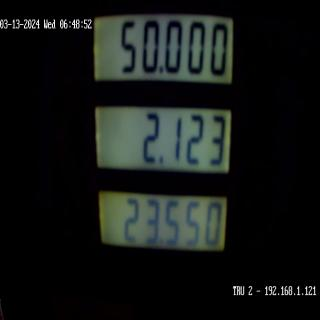screen: (90, 1, 242, 290)
